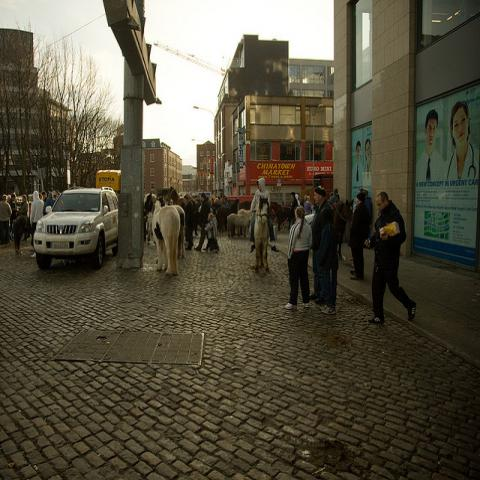car: (32, 185, 119, 270)
